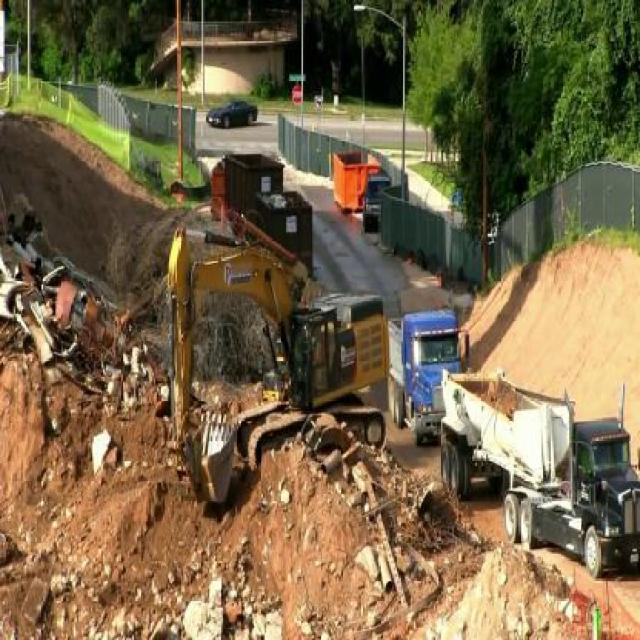dump truck: (438, 364, 640, 588), (388, 304, 470, 448)
excavator: (167, 218, 390, 504)
